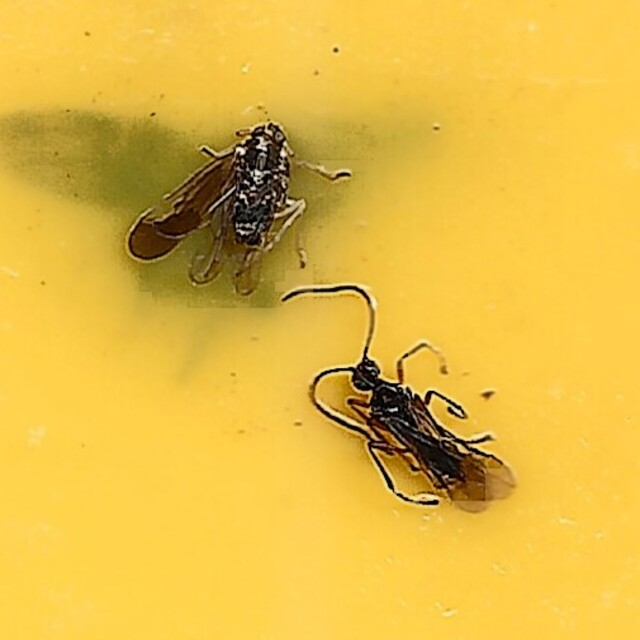Hemiptera: (127, 125, 303, 296)
Plecoptera: (297, 281, 513, 515)
